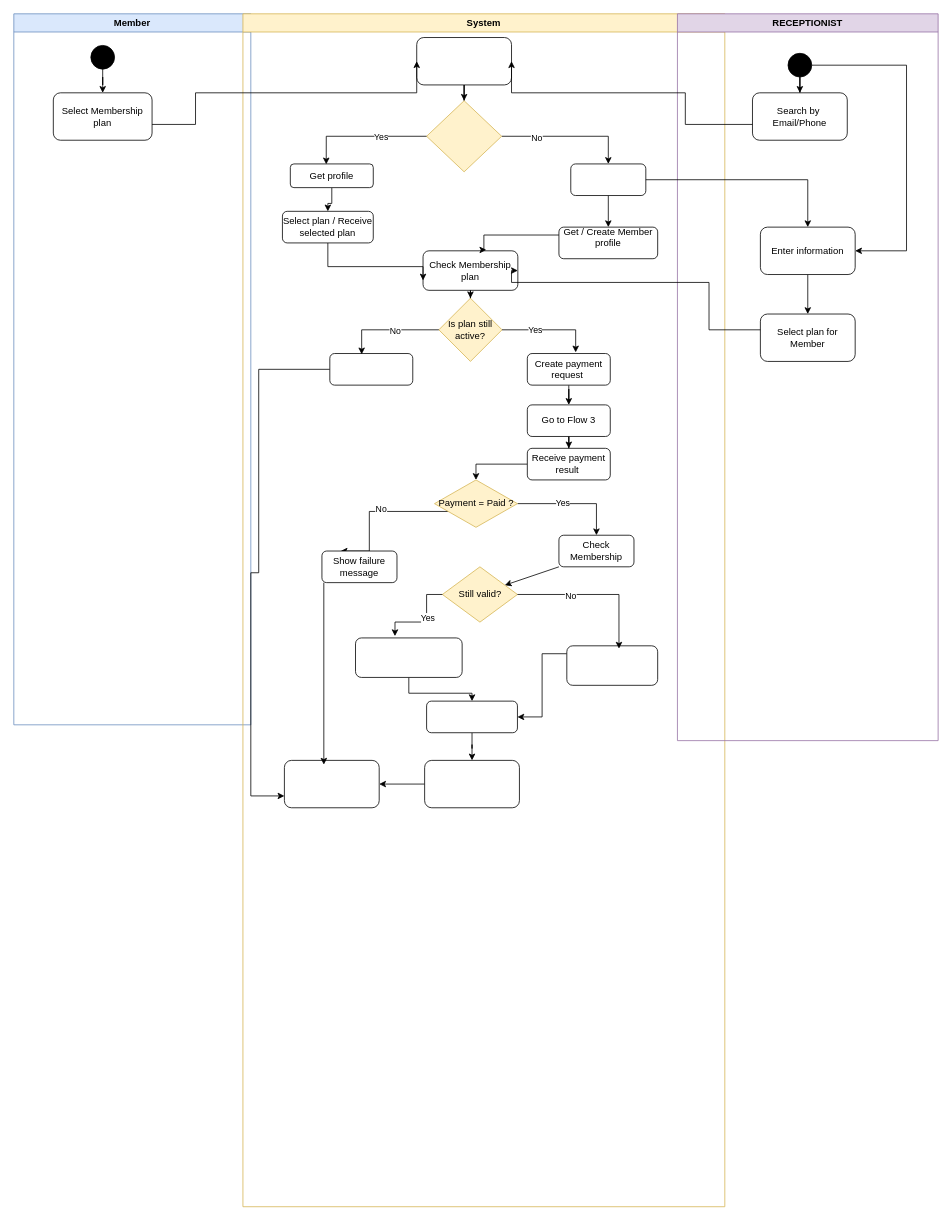
This 952x1221 diagram has some shape labels left out. Here are the shapes that lost their labels. From the top down, the centre of each, then its label:
(464,61): Check Member
(464,136): Does Member exist?
(608,179): Request information
(371,369): Show error
(408,657): Add plan duration to current expiry date
(612,665): Start date = payment date
(471,716): Update Membership
(331,784): End
(471,784): Show success message
